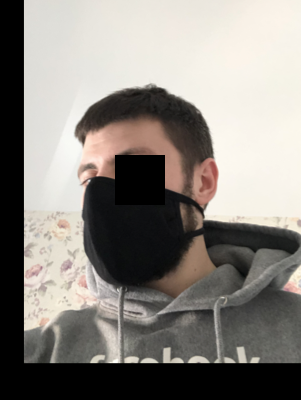with_mask: (77, 143, 187, 290)
